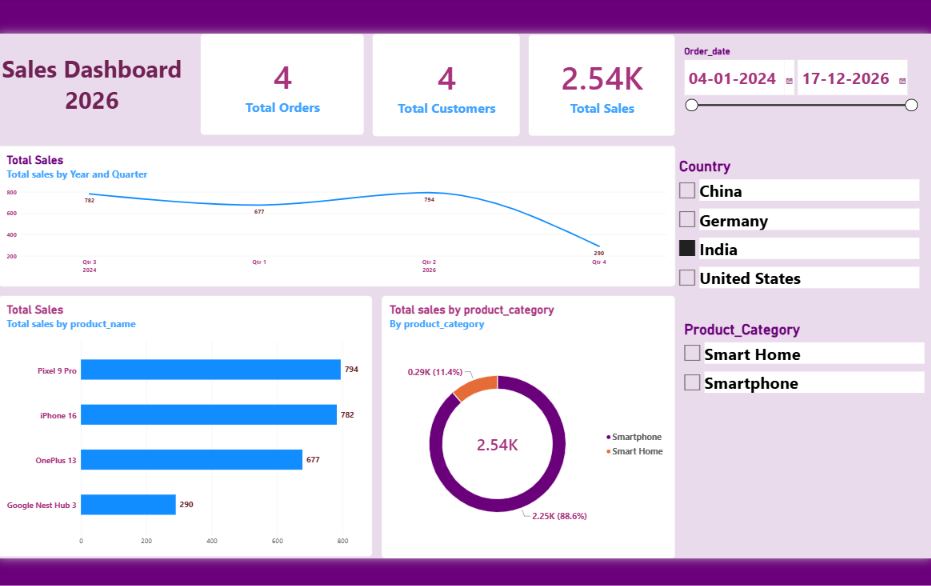

This screenshot's page, from the dashboard's own definition file:
{"tool":"powerbi","page":{"name":"Page 1","canvas":[1920,1080],"ordinal":0},"visuals":[{"type":"barChart","title":"Total Sales","fields":{"Category":["orders.product_name"],"Y":["Sum(orders.sales)"]},"box":[0,539.3,769.8,537.2],"z":0},{"type":"donutChart","title":"Total sales by product_category","fields":{"Category":["orders.product_category"],"Y":["Sum(orders.sales)"]},"box":[788.3,539.3,605.1,541.3],"z":1000},{"type":"cardVisual","fields":{"Data":["CountNonNull(orders.order_id)"]},"box":[415.8,0,337.6,209.9],"z":2000},{"type":"cardVisual","fields":{"Data":["CountNonNull(orders.customer_id)"]},"box":[769.8,0,304.6,212],"z":3000},{"type":"cardVisual","fields":{"Data":["Sum(orders.sales)"]},"box":[1090.9,2.1,302.6,209.9],"z":4000},{"type":"lineChart","title":"Total Sales","fields":{"Category":["orders.order_date.Variation.Date Hierarchy.Year","orders.order_date.Variation.Date Hierarchy.Quarter","orders.order_date.Variation.Date Hierarchy.Month","orders.order_date.Variation.Date Hierarchy.Day"],"Y":["Sum(orders.sales)"]},"box":[0,230.5,1393.5,290.2],"z":5000},{"type":"slicer","fields":{"Values":["customers.country"]},"box":[1393.5,255.2,502.2,306.7],"z":6000},{"type":"slicer","fields":{"Values":["orders.product_category"]},"box":[1403.8,590.7,502.2,335.5],"z":7000},{"type":"slicer","fields":{"Values":["orders.order_date"]},"box":[1403.8,24.7,491.9,187.3],"z":8000},{"type":"textbox","box":[1404,927,502,153],"z":9000},{"type":"textbox","box":[0,2.1,384.9,205.8],"z":10000}]}

Visuals, with their boxes in screenshot pixels (x1, y1, x2, y2):
"Total Sales" barChart: [78, 309, 433, 557]
"Total sales by product_category" donutChart: [441, 309, 720, 559]
cardVisual - CountNonNull(orders.order_id): [269, 61, 425, 157]
cardVisual - CountNonNull(orders.customer_id): [433, 61, 573, 158]
cardVisual - Sum(orders.sales): [581, 62, 720, 158]
"Total Sales" lineChart: [78, 167, 720, 301]
slicer - customers.country: [720, 178, 930, 320]
slicer - orders.product_category: [725, 333, 930, 488]
slicer - orders.order_date: [725, 72, 930, 158]
textbox: [725, 488, 930, 559]
textbox: [78, 62, 255, 157]
